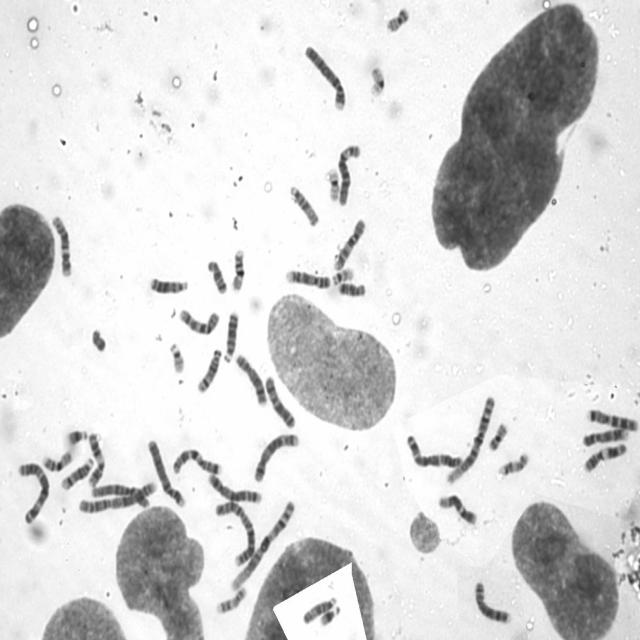A1: (229, 495, 298, 593), (444, 393, 496, 487)
A2: (212, 497, 256, 567), (76, 478, 156, 516)
A3: (16, 458, 51, 526), (404, 430, 463, 470)
B4: (302, 42, 347, 114), (146, 435, 186, 509)
B5: (252, 431, 300, 484), (206, 471, 263, 505)
C10: (331, 215, 367, 271), (176, 305, 221, 337)
C11: (581, 439, 628, 474), (85, 429, 106, 488)
C12: (49, 212, 74, 279), (436, 490, 478, 526)
C6: (334, 141, 362, 208), (90, 482, 152, 511)
C7: (170, 445, 222, 476), (584, 405, 638, 432)
C8: (233, 351, 268, 407), (472, 577, 512, 626)
C9: (284, 266, 331, 290), (581, 424, 628, 447)
D13: (221, 308, 240, 364), (147, 274, 189, 296)
D14: (195, 346, 222, 394), (59, 455, 95, 491)
D15: (286, 182, 321, 228), (300, 592, 339, 626)
E16: (40, 446, 74, 473), (229, 246, 246, 294)
E17: (213, 584, 247, 615), (496, 449, 530, 477)
E18: (206, 256, 228, 296), (336, 279, 366, 298)
F19: (368, 63, 387, 99), (324, 165, 340, 203)
F20: (486, 418, 509, 452), (384, 5, 410, 34)
G21: (318, 602, 341, 628), (64, 425, 89, 448)
G22: (166, 339, 186, 374), (330, 264, 355, 286)
X: (263, 372, 296, 430)
Y: (90, 326, 108, 354)
